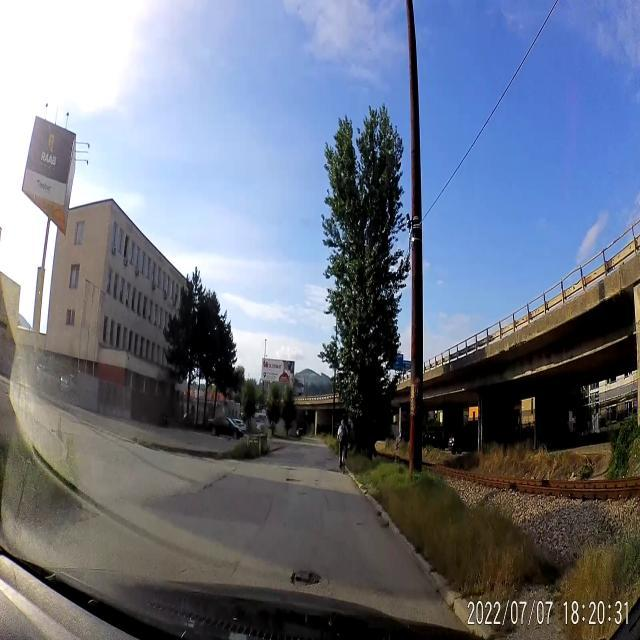Pothole: (288, 564, 324, 592), (287, 474, 301, 486), (354, 516, 365, 530), (327, 468, 340, 474)
